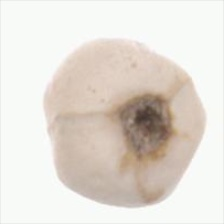L4: (42, 38, 206, 207)
